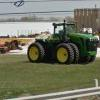Tractor: (17, 17, 100, 69)
